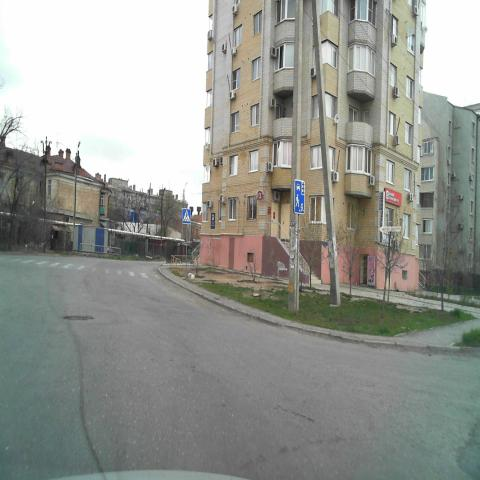5_21: (294, 179, 306, 215)
